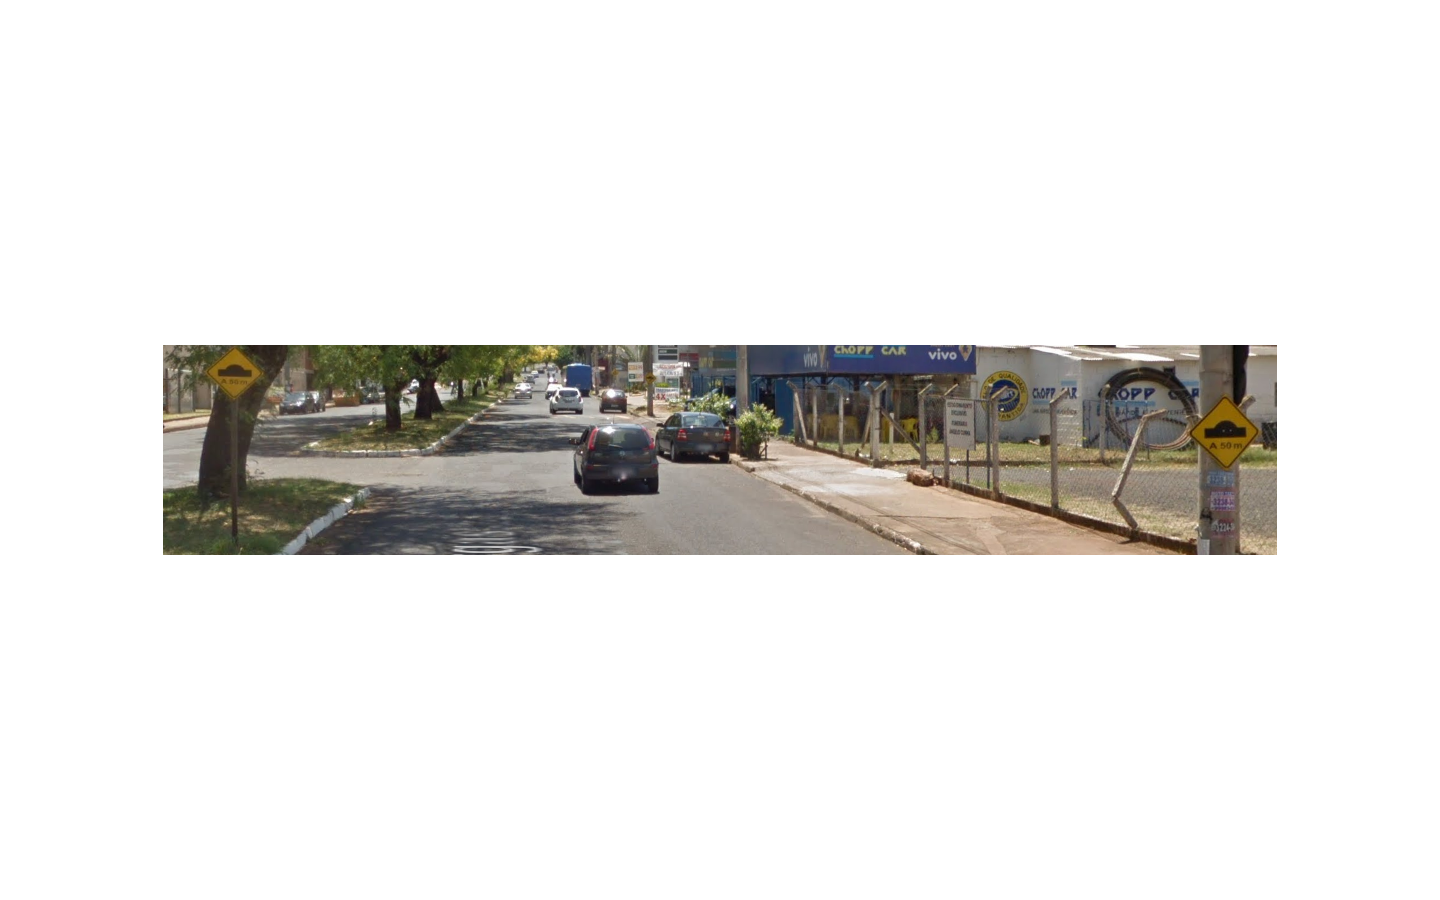l50m: (1188, 395, 1261, 472), (204, 347, 264, 401)
